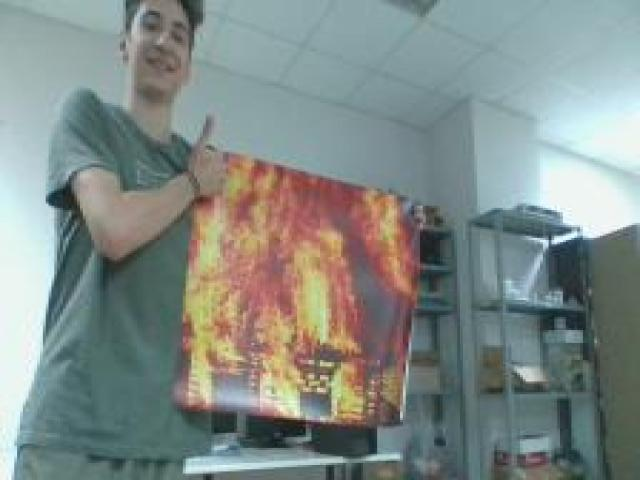fire-poster: (172, 148, 428, 431)
